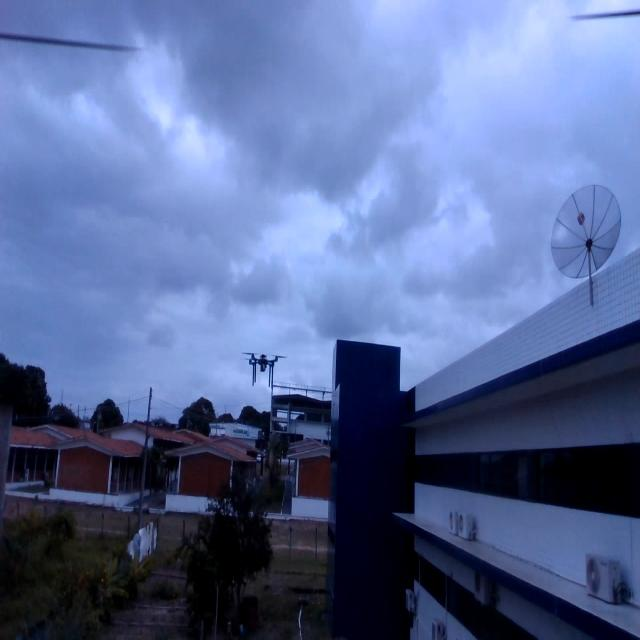-uav-: (238, 341, 288, 394)
